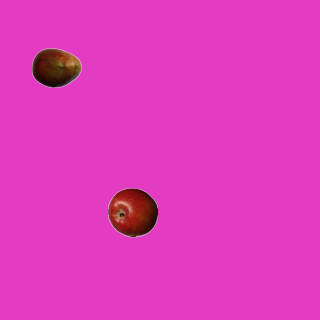Apple Braeburn: (107, 187, 157, 237)
Mango Red: (31, 42, 81, 92)
